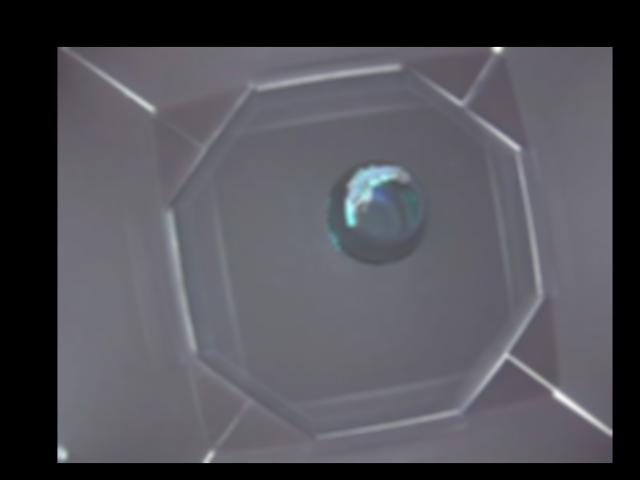Bottle: (328, 162, 424, 265)
